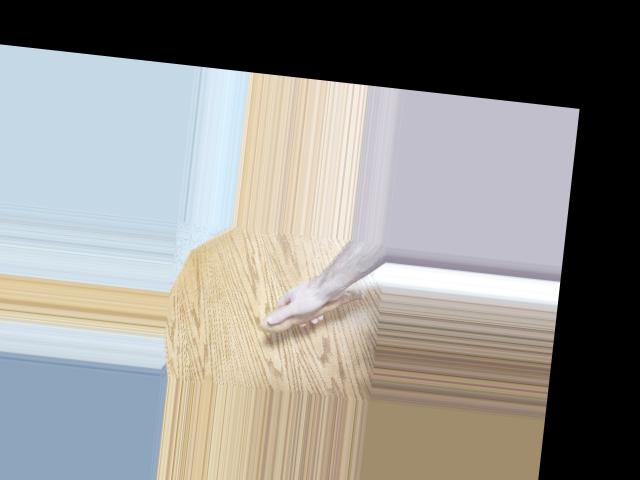sweet_potato: (258, 275, 370, 345)
